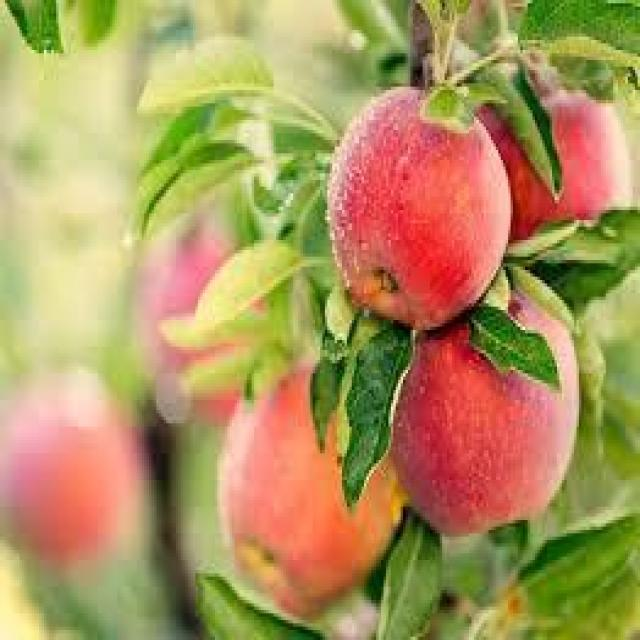maca: (388, 283, 579, 537), (215, 360, 401, 617), (325, 83, 510, 330)
